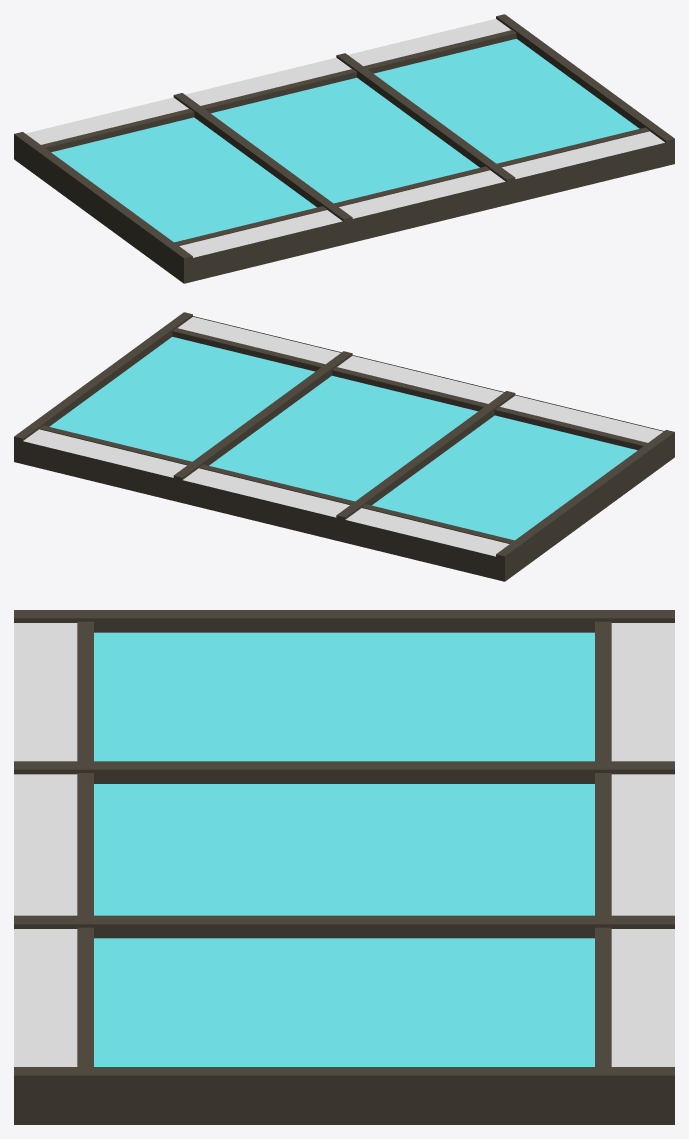
Rendered from P_F_OLDType1.fbx.
3 renders of one model, top to bottom at view 1: azimuth 30°, elevation 25°; view 2: azimuth 150°, elevation 25°; view 3: azimuth 270°, elevation 25°, orthographic. The views are drawn at different scales.
Visible parts, largest first — view 1: P_F_OLDType1; view 2: P_F_OLDType1; view 3: P_F_OLDType1.
Boxes of the visible parts, x1,y1,x2,y2 form: P_F_OLDType1: (14, 14, 674, 283); P_F_OLDType1: (14, 312, 674, 581); P_F_OLDType1: (14, 610, 674, 1124).
Bounding box in the file's own units: 650 × 32.17 × 390.
